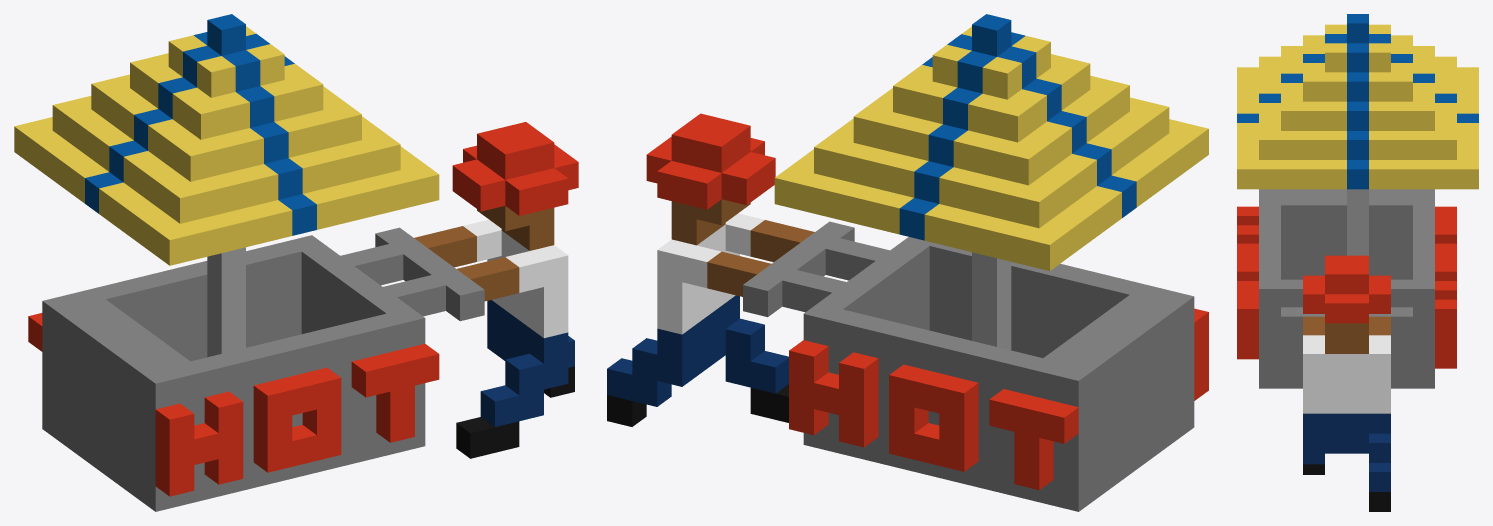
Rendered from hotdogguyrunleft.vox.vox.obj.
3 views of the same model, side by side, from view 1: azimuth 30°, elevation 25°; view 2: azimuth 150°, elevation 25°; view 3: azimuth 270°, elevation 25° (orthographic). The views are drawn at different scales.
Size of the model in its own units: 2 by 1.8 by 1.1.
1 material, 1 textured.
